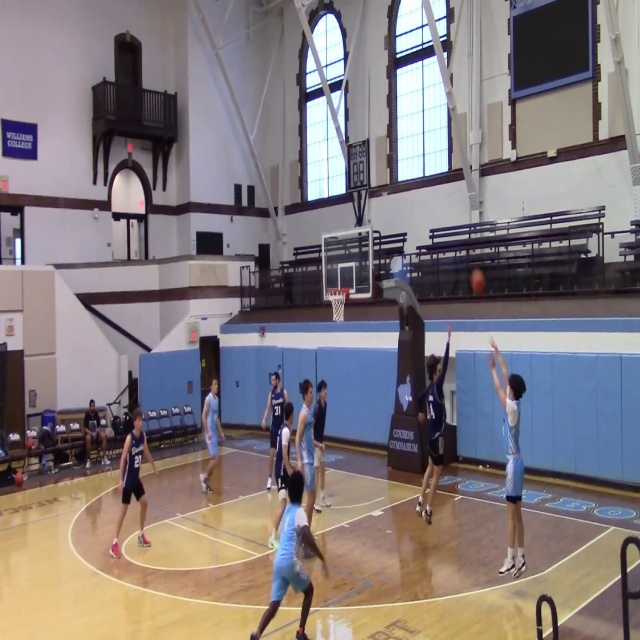Basketball: (470, 268, 485, 295), (14, 472, 25, 487), (24, 437, 36, 449)
